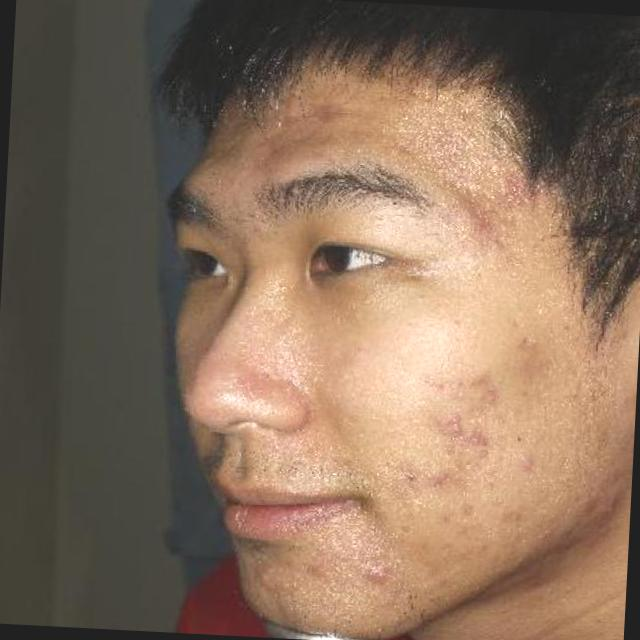nodules: (361, 564, 397, 590), (515, 450, 543, 480), (478, 392, 498, 408)
